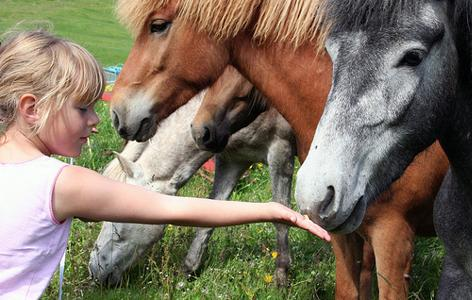person: (3, 23, 338, 300)
